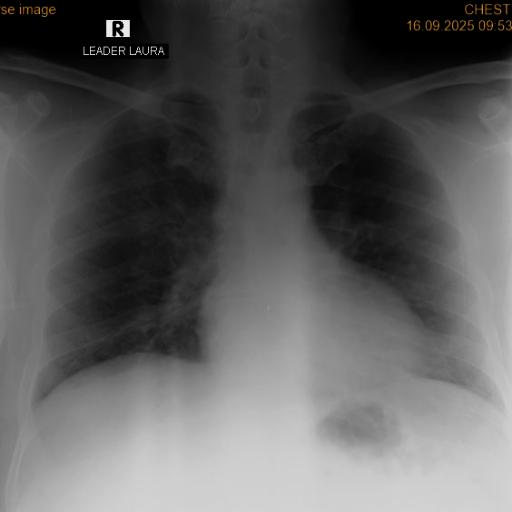kardiomegali: (16, 70, 510, 434)
